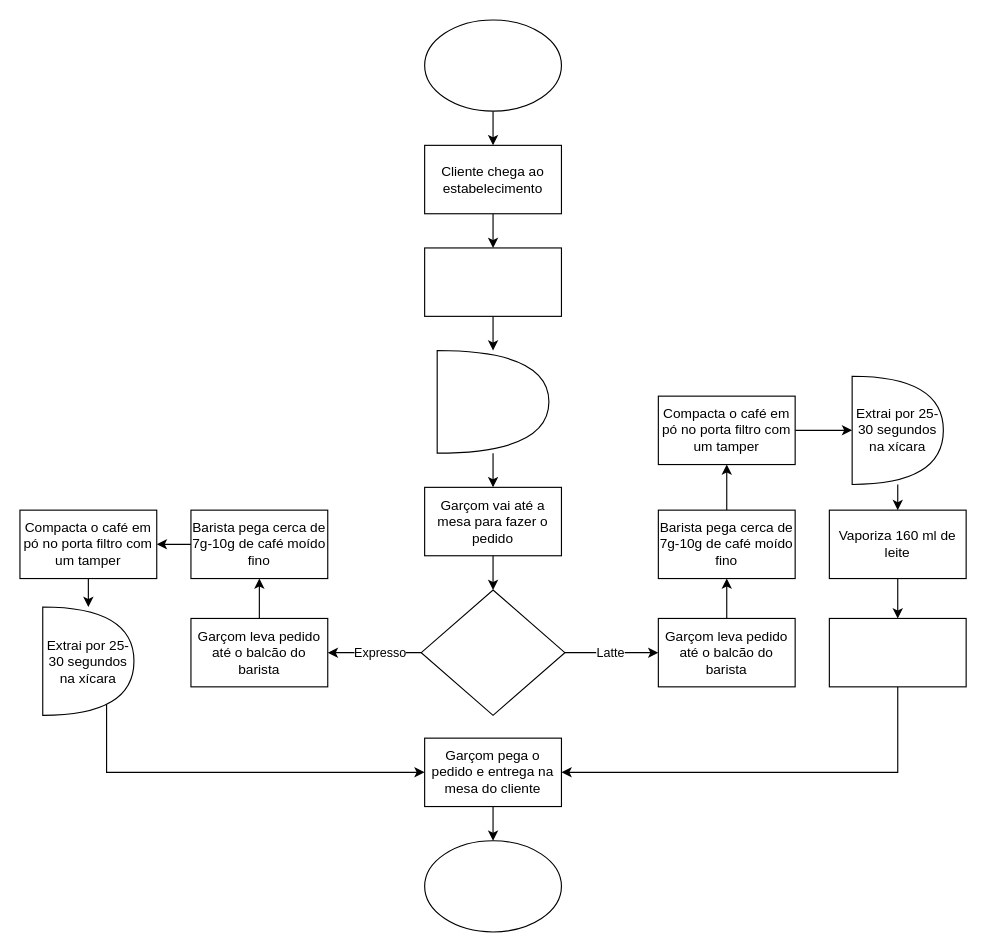
Image size: 986x952. Some labels were removed from this diagram. Here are the shapes that lost their labels. From the top down, the box of each, then its label:
(424, 19, 561, 111): Início
(424, 247, 561, 316): Cliente entra e se senta à mesa
(436, 349, 549, 453): Cliente espera para ser atendido
(420, 589, 565, 715): Café Expresso ou Latte?
(828, 617, 966, 687): Adiciona o leite sob o café expresso
(424, 840, 561, 932): Fim
